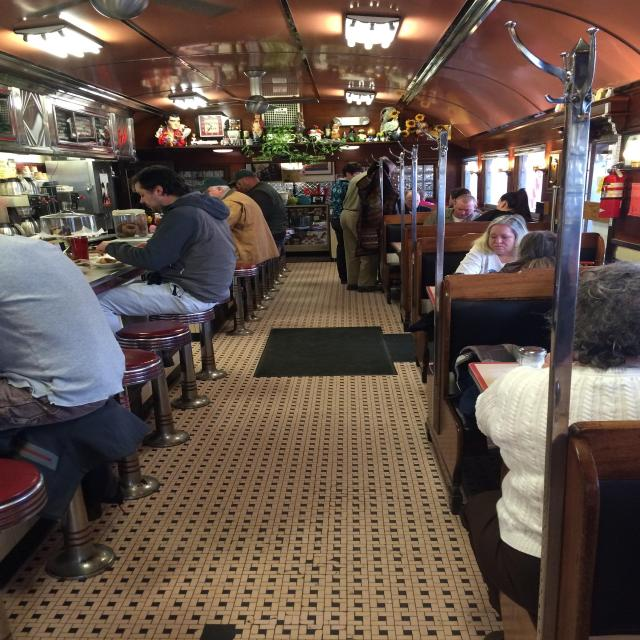body: (462, 260, 639, 603), (0, 232, 130, 432), (92, 164, 238, 338), (153, 107, 446, 146), (196, 176, 280, 269), (340, 160, 385, 293), (226, 169, 288, 245), (327, 161, 364, 286), (454, 214, 530, 274), (486, 230, 584, 274), (469, 188, 535, 222), (422, 194, 482, 226), (392, 190, 433, 215), (446, 187, 482, 212), (448, 188, 483, 212), (411, 184, 434, 206)
